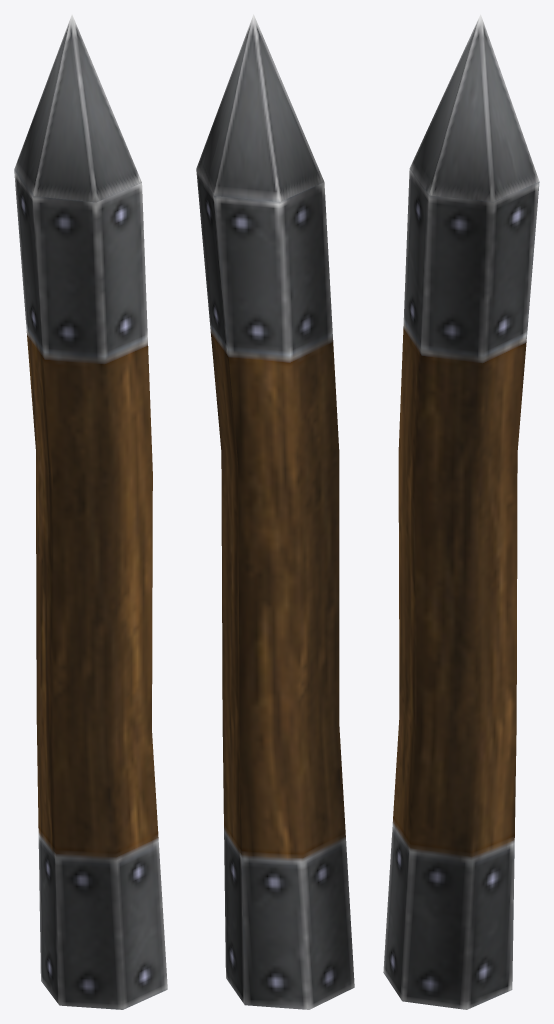
Rendered from Stake02.FBX.
3 views of the same model, side by side, from view 1: azimuth 90°, elevation 25°; view 2: azimuth 150°, elevation 25°; view 3: azimuth 270°, elevation 25° (orthographic).
Parts seen in each view (by area): view 1: Stack02; view 2: Stack02; view 3: Stack02.
Boxes of the visible parts, left/top/right/bottom form: Stack02: left=14, top=14, right=167, bottom=1009; Stack02: left=196, top=14, right=354, bottom=1009; Stack02: left=383, top=14, right=539, bottom=1009.
Size of the model in its own units: 0.4296 by 0.4593 by 3.18.
